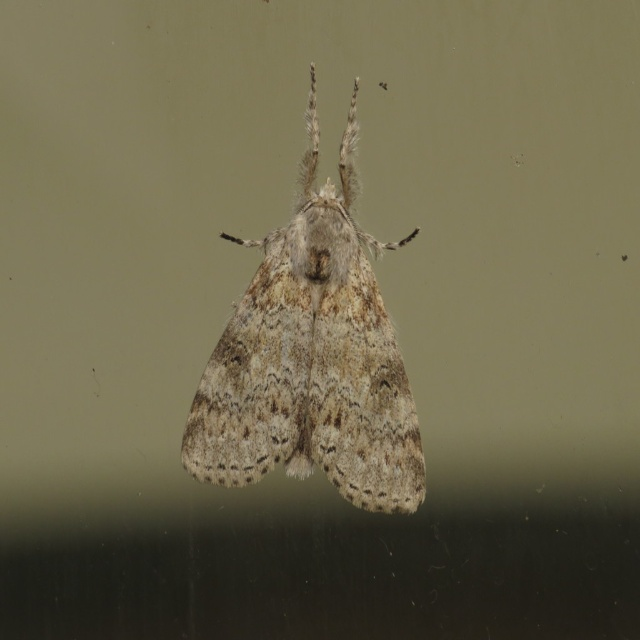Moths and butterflies: (176, 60, 428, 518)
